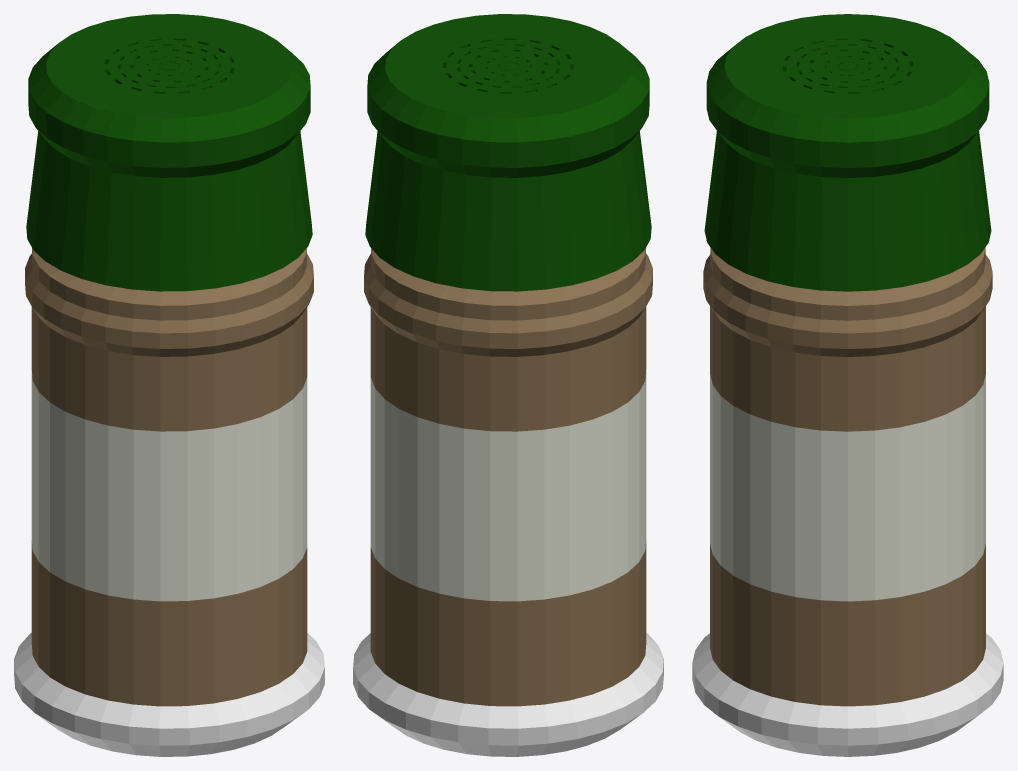
File: groundblackpaper1.fbx
The picture shows the model from 3 angles, left to right: view 1: azimuth 30°, elevation 25°; view 2: azimuth 150°, elevation 25°; view 3: azimuth 270°, elevation 25°; orthographic projection.
Visible parts, largest first — view 1: Cylinder; view 2: Cylinder; view 3: Cylinder.
Boxes of the visible parts, <box> form: Cylinder: <box>14,14,324,756</box>; Cylinder: <box>353,14,663,756</box>; Cylinder: <box>692,14,1003,756</box>.
Bounding box in the file's own units: 157 × 355 × 157.
